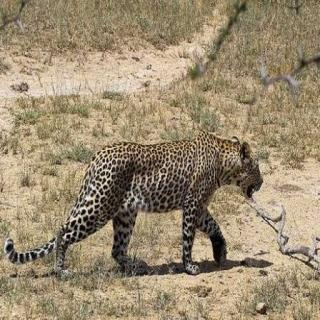Leopard: (6, 117, 320, 301)
